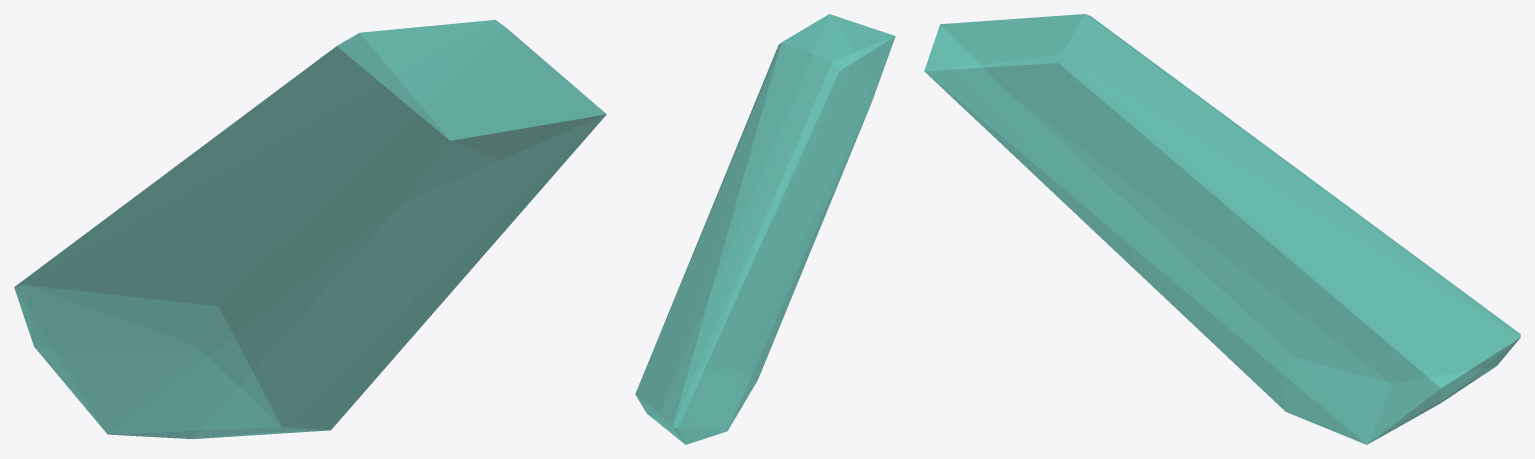
3 renders of one model, left to right at view 1: azimuth 30°, elevation 25°; view 2: azimuth 150°, elevation 25°; view 3: azimuth 270°, elevation 25°, orthographic. The views are drawn at different scales.
Parts seen in each view (by area): view 1: Shape_IndexedFaceSet.016_Shape_IndexedFaceSet.4362; view 2: Shape_IndexedFaceSet.016_Shape_IndexedFaceSet.4362; view 3: Shape_IndexedFaceSet.016_Shape_IndexedFaceSet.4362.
Part boxes in pixels (x1,y1,x2,y2): Shape_IndexedFaceSet.016_Shape_IndexedFaceSet.4362: (14, 20, 606, 439); Shape_IndexedFaceSet.016_Shape_IndexedFaceSet.4362: (635, 14, 895, 444); Shape_IndexedFaceSet.016_Shape_IndexedFaceSet.4362: (924, 14, 1520, 444).
Bounding box in the file's own units: 0.0958 × 0.3435 × 0.4793.
